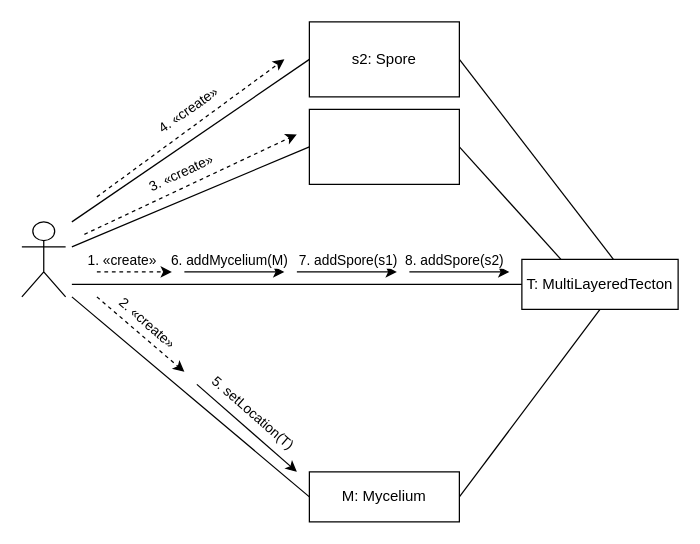
Some shapes in this 700 by 544 pixel diagram are drawn without their labels. Each missing label, with the box of its shape:
s1 : Spore: (308, 108, 459, 184)
Tester: (21, 221, 66, 297)
